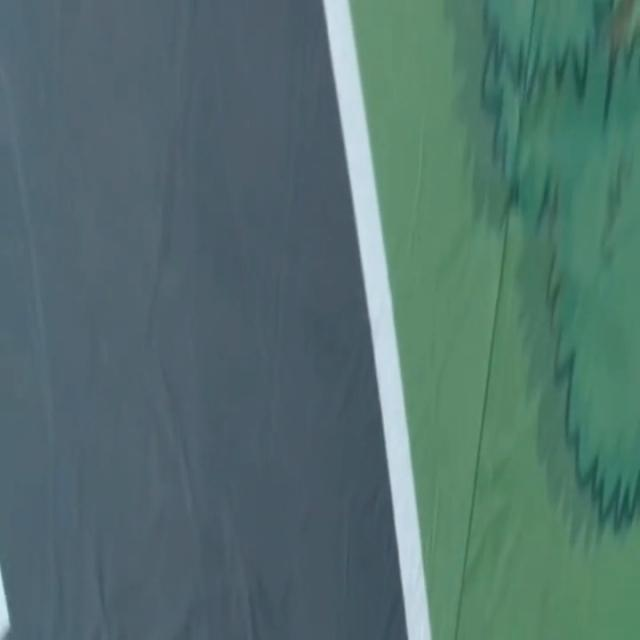center: (0, 566, 10, 639)
right: (324, 0, 430, 639)
